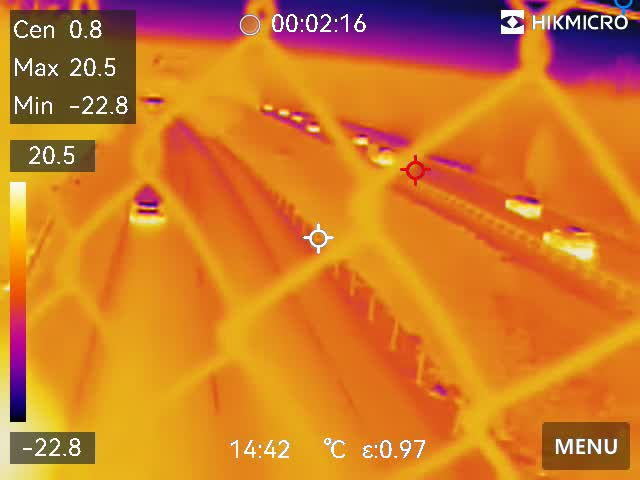largeCar: (504, 189, 545, 221)
vehicle: (542, 225, 596, 261), (130, 180, 167, 229), (372, 145, 394, 175), (350, 130, 369, 149), (303, 121, 322, 136), (261, 101, 277, 114), (289, 112, 306, 123), (278, 104, 291, 117)
